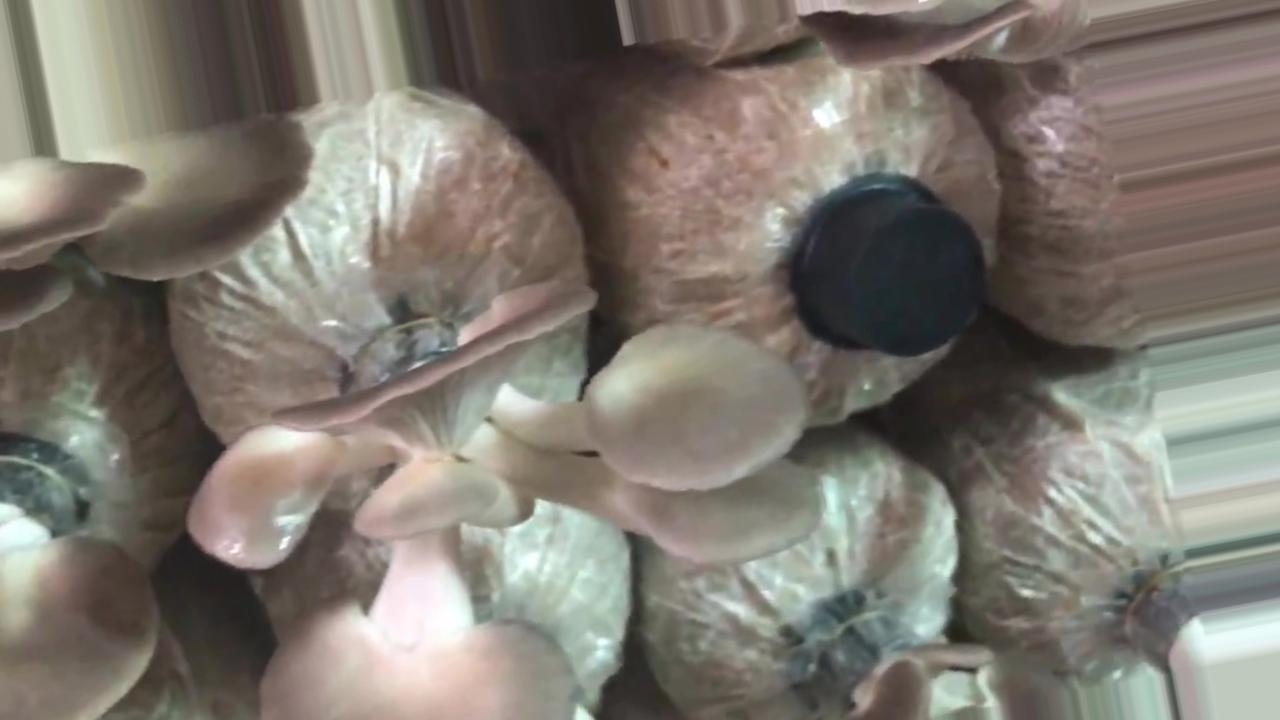nam: (186, 275, 828, 720), (1, 106, 314, 337), (1, 399, 161, 720)
